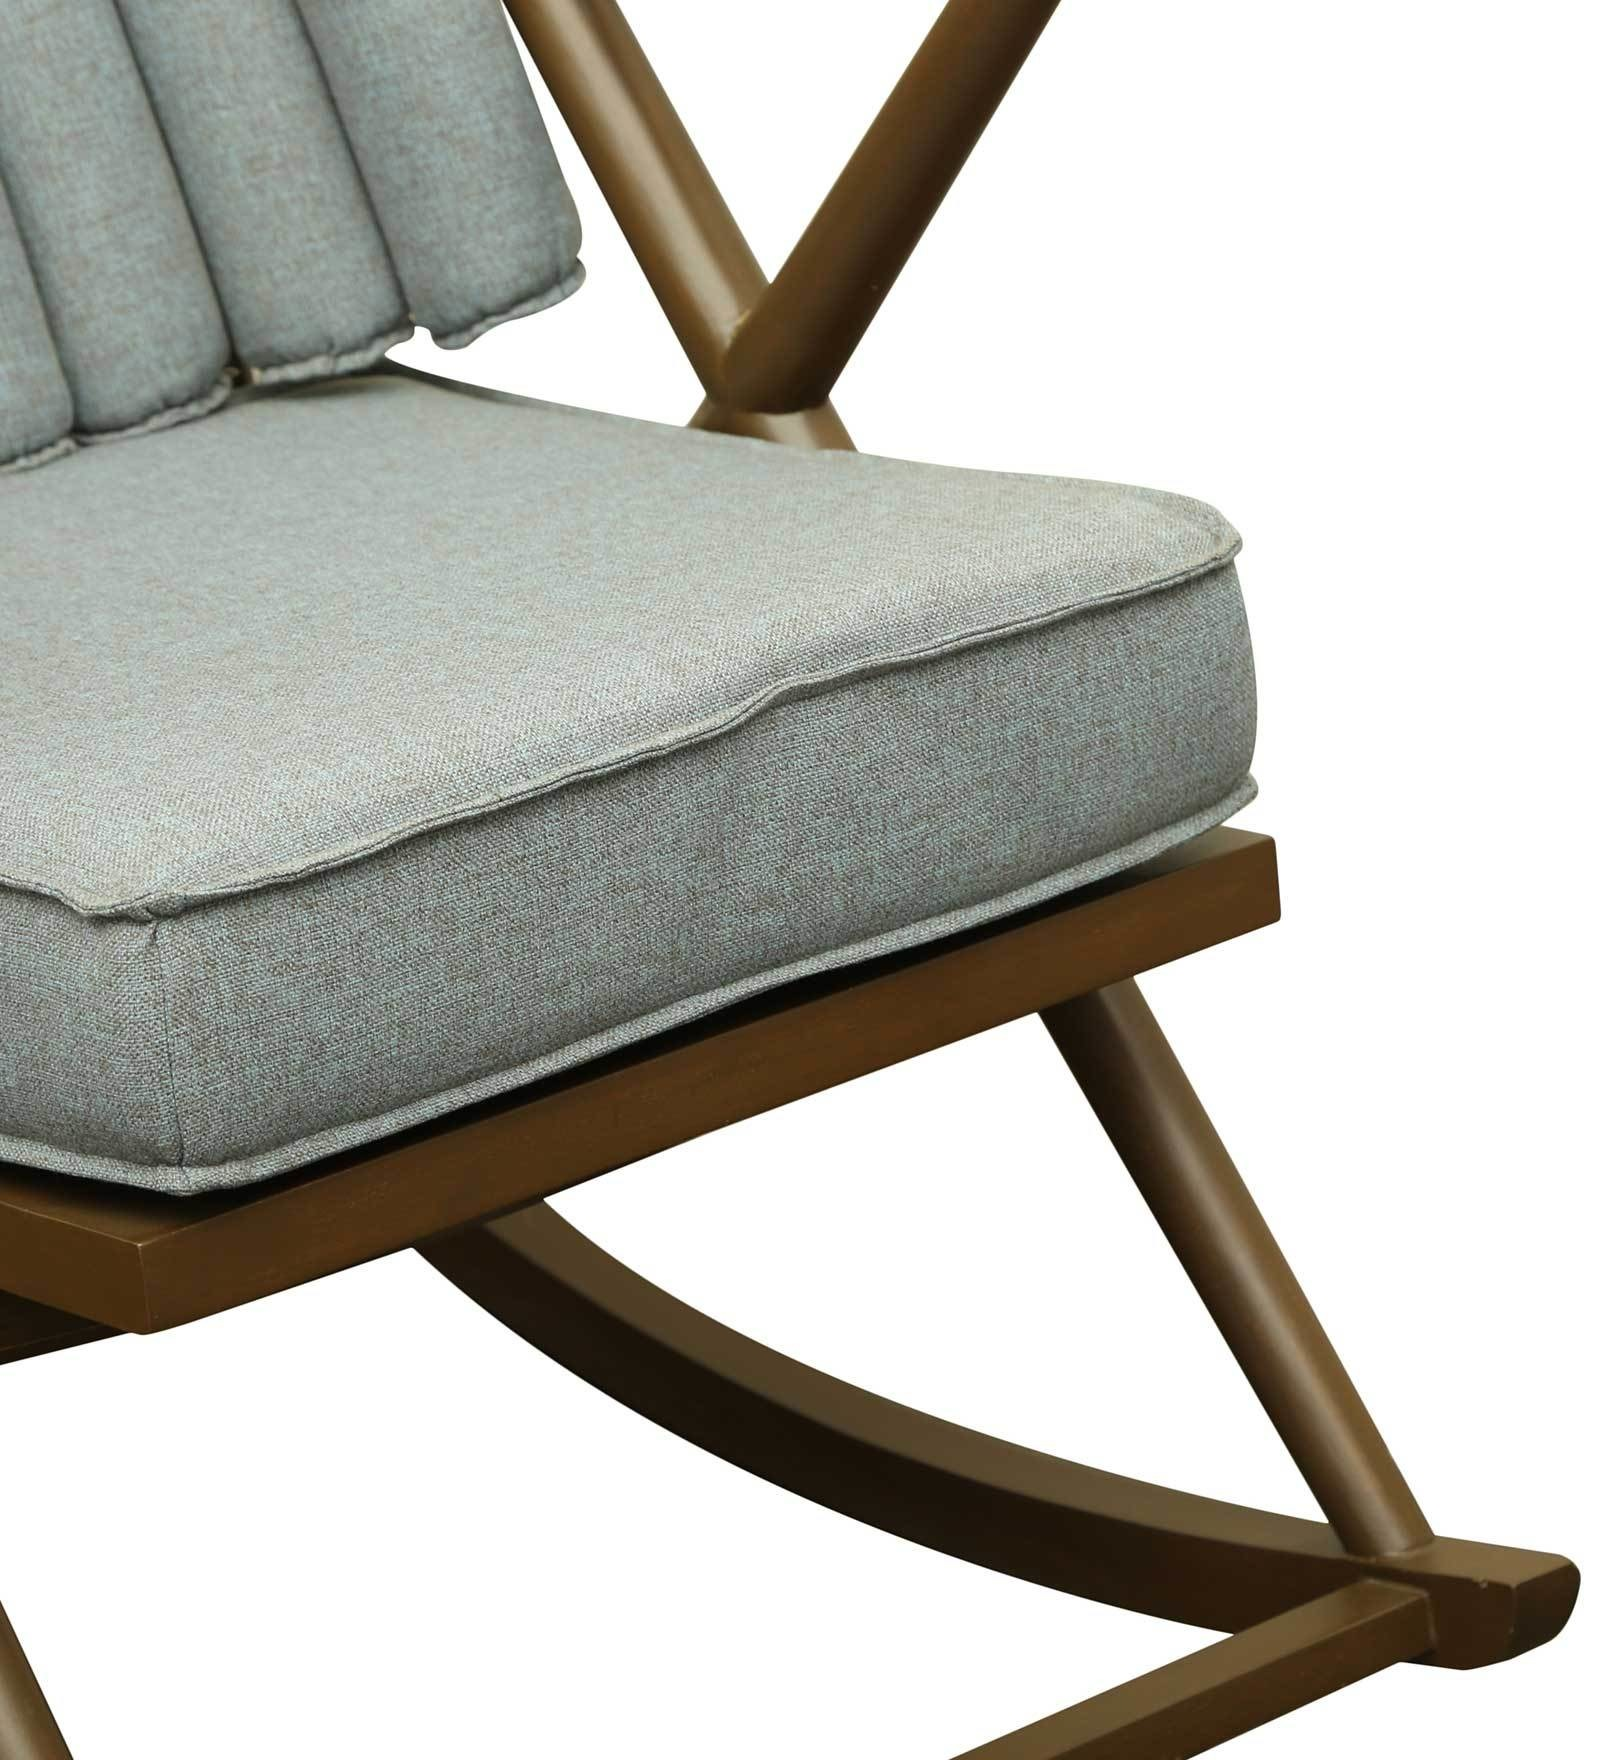Standard Rocking Chair in Grey & Brown Colour Combo by INDOORS: (28, 44, 1598, 1732)
